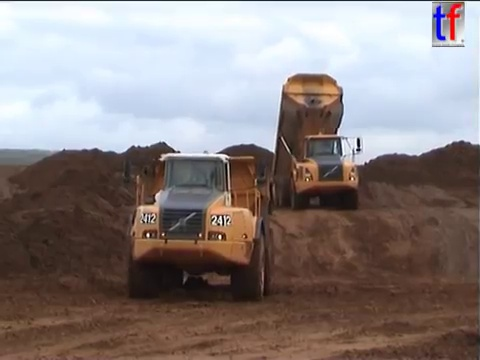truck: (121, 150, 275, 301), (265, 71, 364, 212)
